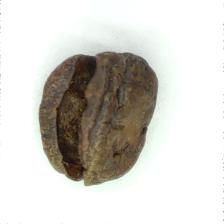NG: (51, 52, 104, 180)
